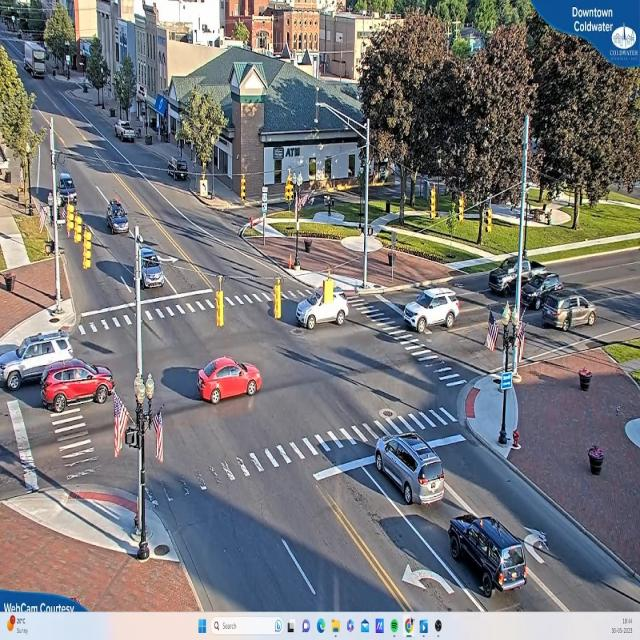car: (450, 514, 532, 594), (373, 433, 445, 506), (1, 334, 76, 391), (39, 363, 112, 410), (196, 357, 262, 403), (402, 291, 462, 333), (486, 247, 542, 290), (541, 296, 597, 330), (295, 295, 349, 330), (138, 240, 168, 290), (108, 205, 131, 236), (117, 121, 138, 143), (58, 172, 76, 197)
